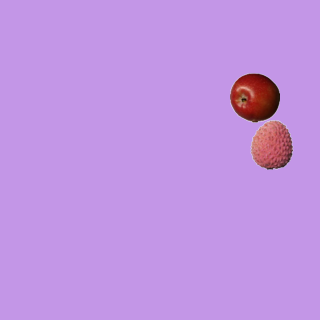Apple Braeburn: (229, 72, 279, 122)
Lychee: (246, 119, 296, 169)
